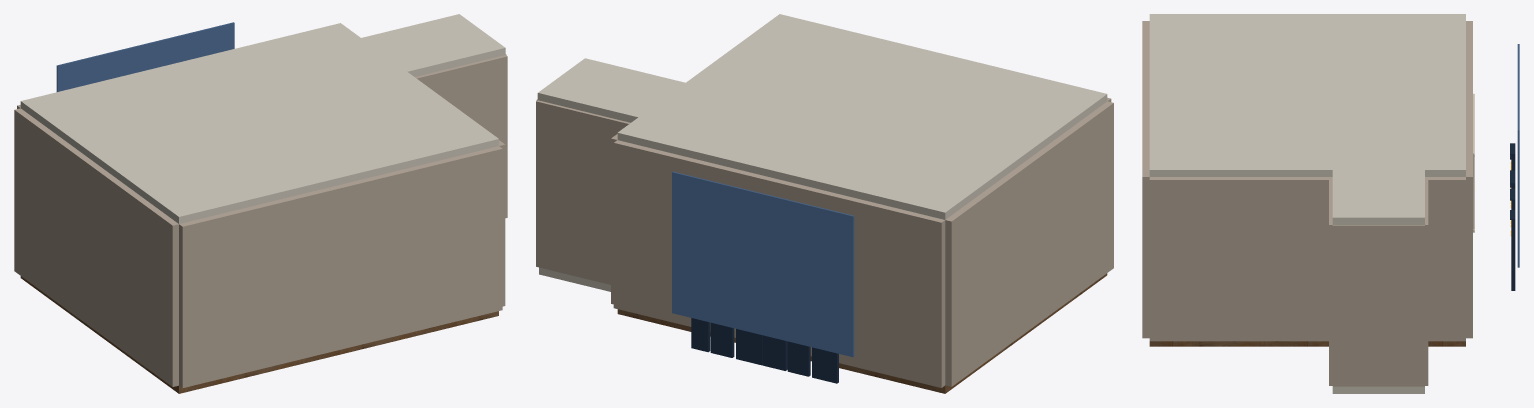
File: story-home.glb
3 views of the same model, side by side, from view 1: azimuth 30°, elevation 25°; view 2: azimuth 150°, elevation 25°; view 3: azimuth 270°, elevation 25° (orthographic). The views are drawn at different scales.
Visible parts, largest first — view 1: Static batch | Warm greige wall paint, Static batch | Ceiling white, Distant blue hour, Subfloor · oak planks; view 2: Static batch | Warm greige wall paint, Static batch | Ceiling white, Distant blue hour, Static batch | Window exterior silhouette, Subfloor · oak planks; view 3: Static batch | Warm greige wall paint, Static batch | Ceiling white, Subfloor · oak planks, Static batch | Window exterior silhouette, Distant blue hour.
Part boxes in pixels (x1,y1,x2,y2): Static batch | Warm greige wall paint: [14, 54, 507, 387]; Static batch | Ceiling white: [20, 14, 505, 223]; Distant blue hour: [56, 22, 234, 91]; Subfloor · oak planks: [20, 276, 498, 393]; Static batch | Warm greige wall paint: [536, 97, 1113, 387]; Static batch | Ceiling white: [537, 14, 1107, 291]; Distant blue hour: [672, 171, 854, 357]; Static batch | Window exterior silhouette: [691, 318, 838, 383]; Subfloor · oak planks: [617, 273, 1107, 393]; Static batch | Warm greige wall paint: [1142, 21, 1472, 386]; Static batch | Ceiling white: [1149, 14, 1465, 393]; Subfloor · oak planks: [1149, 341, 1465, 346]; Static batch | Window exterior silhouette: [1510, 143, 1515, 290]; Distant blue hour: [1517, 44, 1519, 267].
Size of the model in its own units: 7.45 by 2.97 by 5.73.
Materials: 24 (5 with a texture image).
